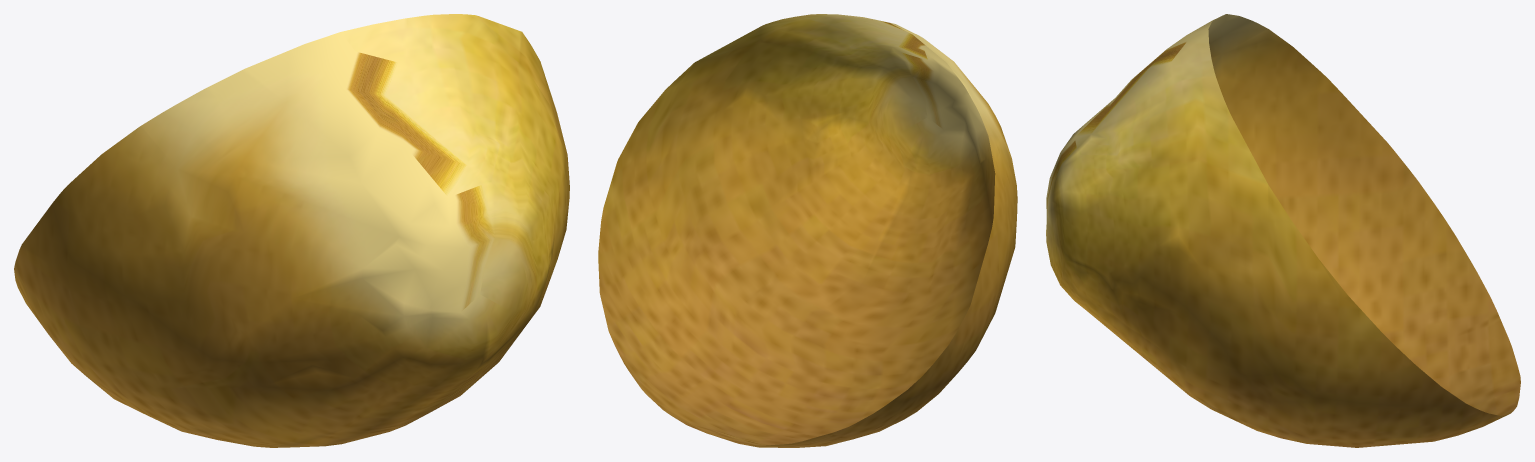
The model's file is citroenBovenkant.obj.
3 renders of one model, left to right at view 1: azimuth 30°, elevation 25°; view 2: azimuth 150°, elevation 25°; view 3: azimuth 270°, elevation 25°, orthographic. The views are drawn at different scales.
Visible parts, largest first — view 1: Lemon_Whole.001; view 2: Lemon_Whole.001; view 3: Lemon_Whole.001.
Boxes of the visible parts, x1=… form: Lemon_Whole.001: x1=14, y1=14, x2=569, y2=447; Lemon_Whole.001: x1=598, y1=14, x2=1017, y2=447; Lemon_Whole.001: x1=1046, y1=14, x2=1520, y2=447.
Bounding box in the file's own units: 0.9169 × 0.8383 × 0.9281.
Materials: 1 (1 with a texture image).
